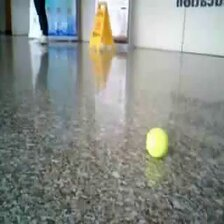tennis: (145, 127, 170, 159)
